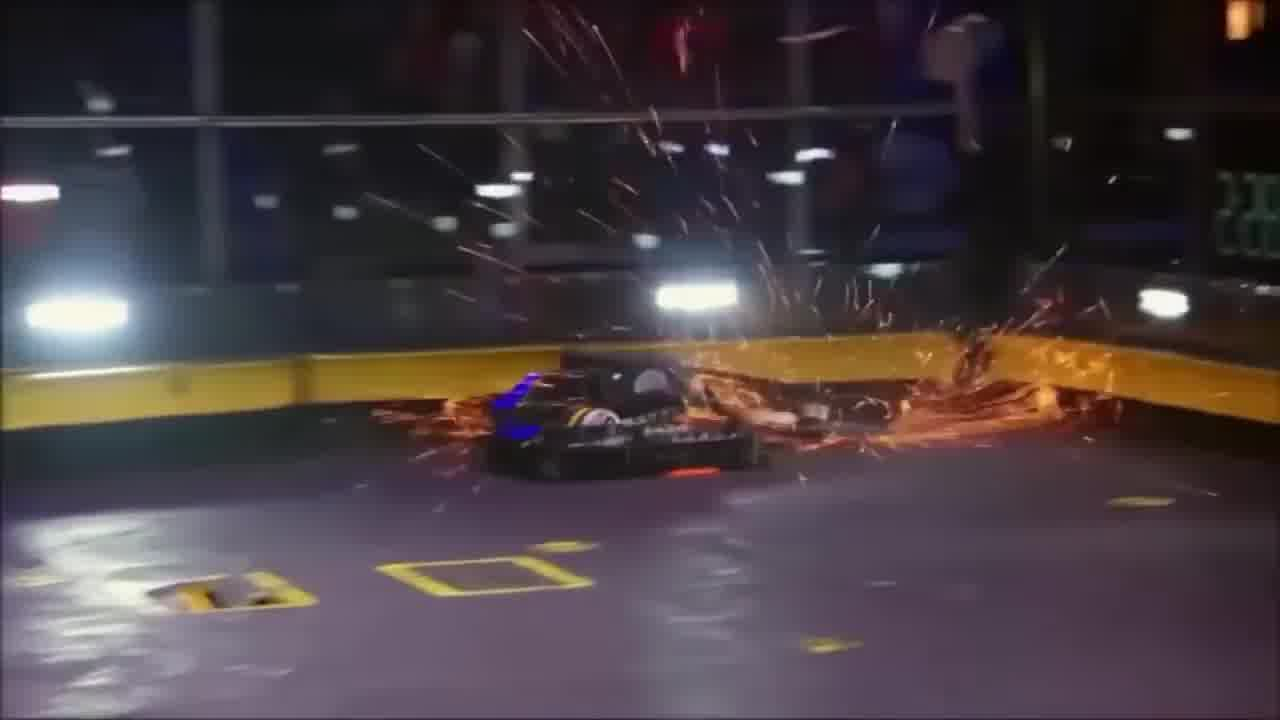combatbot: (471, 356, 752, 479), (686, 367, 890, 445)
